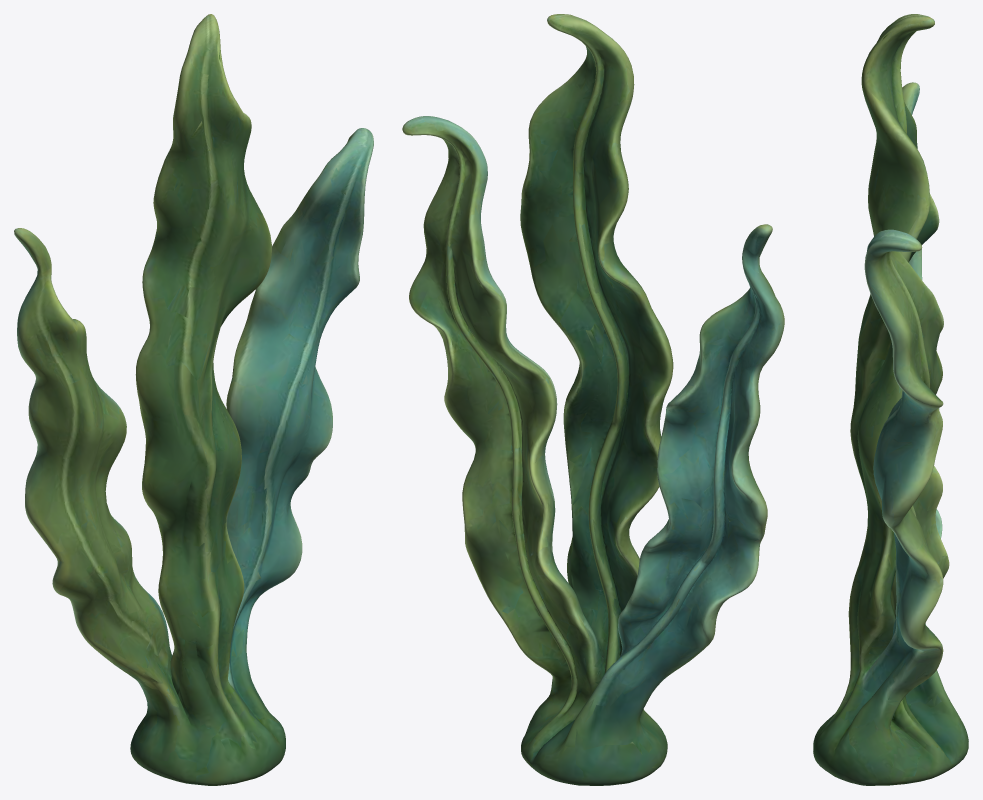
3 renders of one model, left to right at view 1: azimuth 30°, elevation 25°; view 2: azimuth 150°, elevation 25°; view 3: azimuth 270°, elevation 25°, orthographic. The views are drawn at different scales.
Bounding box in the file's own units: 0.9858 × 1.9 × 0.3579.
Materials: 1 (1 with a texture image).
